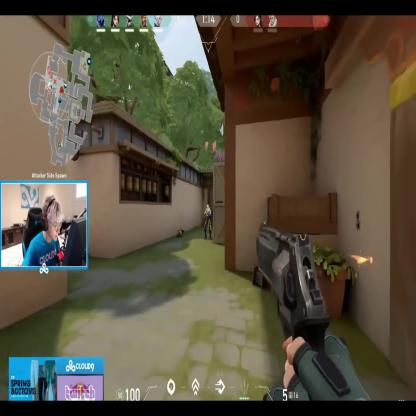enemy: (204, 203, 211, 241)
enemy_head: (207, 204, 209, 210)
